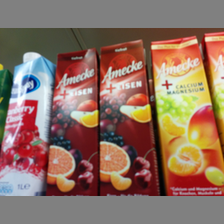juice: (149, 35, 224, 196), (97, 38, 161, 196), (1, 52, 57, 195), (45, 48, 99, 196)
